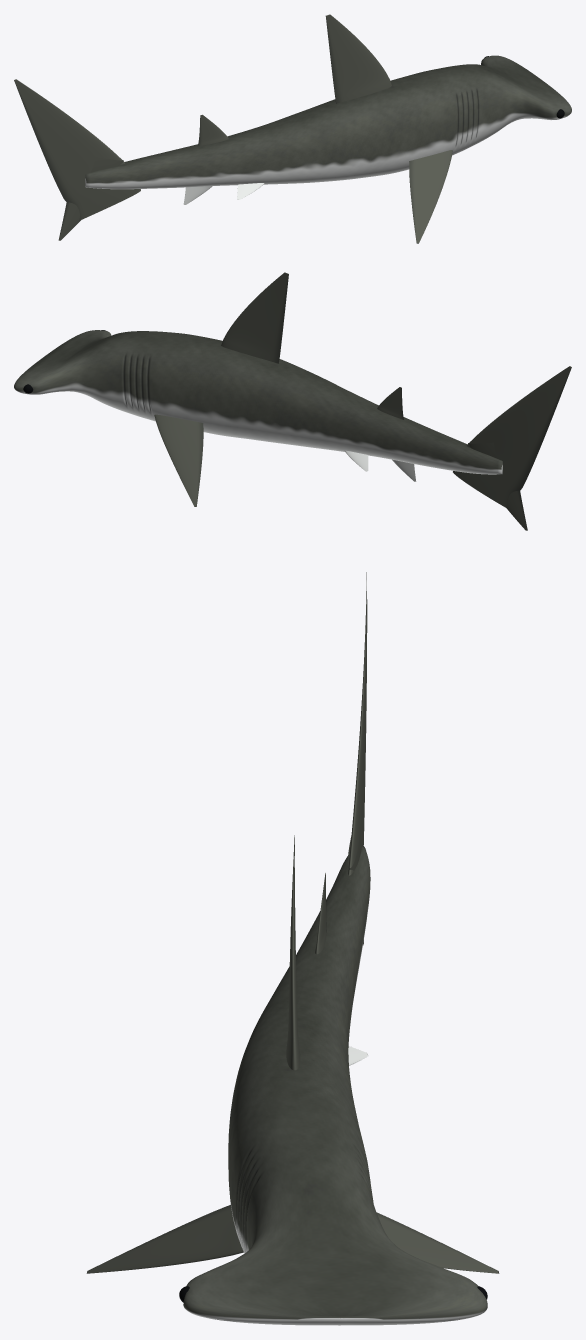
The model's file is great_hammerhead.glb.
3 views of the same model, one above another, from view 1: azimuth 30°, elevation 25°; view 2: azimuth 150°, elevation 25°; view 3: azimuth 270°, elevation 25° (orthographic). The views are drawn at different scales.
Parts seen in each view (by area): view 1: GreatHammerhead_Body, GreatHammerhead_Fins; view 2: GreatHammerhead_Body, GreatHammerhead_Fins; view 3: GreatHammerhead_Body, GreatHammerhead_Fins.
Boxes of the visible parts, x1,y1,x2,y2 form: GreatHammerhead_Body: (85,55,571,189); GreatHammerhead_Fins: (14,14,452,243); GreatHammerhead_Body: (14,330,502,474); GreatHammerhead_Fins: (154,272,571,530); GreatHammerhead_Body: (183,845,487,1325); GreatHammerhead_Fins: (86,572,499,1273).
Bounding box in the file's own units: 4.2 × 1.54 × 1.44.
3 materials, 1 textured.
